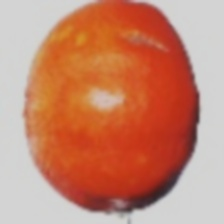tangerine: (27, 49, 192, 197)
